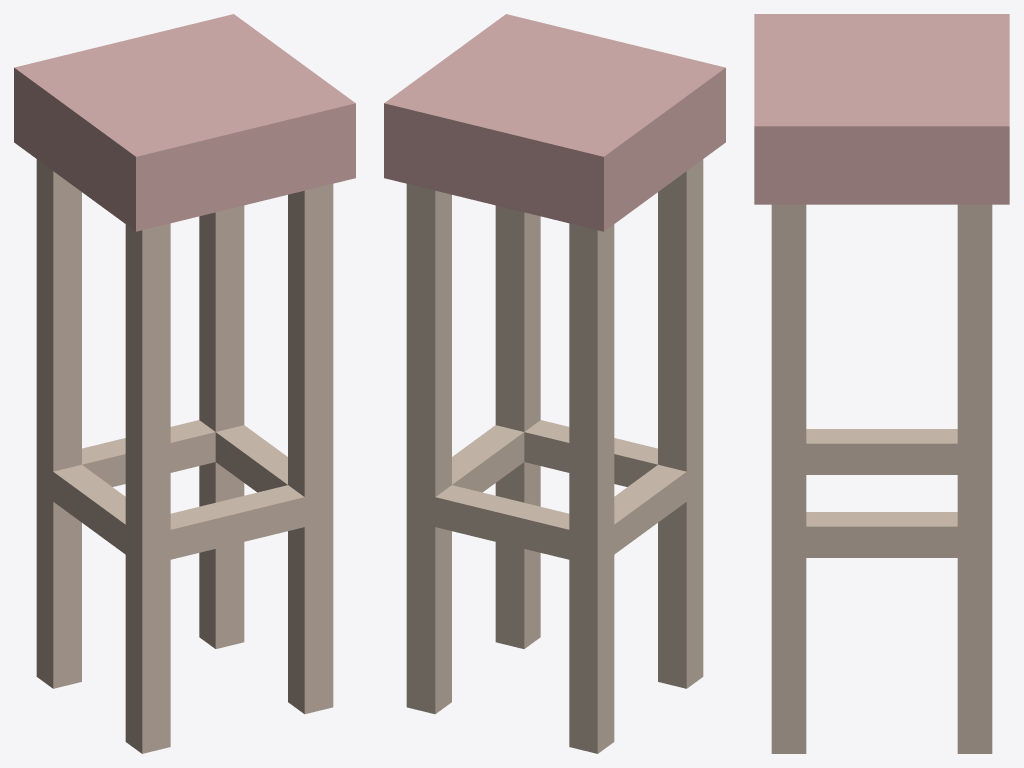
Rendered from furn_stoolBarSquare.glb.
3 views of the same model, side by side, from view 1: azimuth 30°, elevation 25°; view 2: azimuth 150°, elevation 25°; view 3: azimuth 270°, elevation 25° (orthographic). The views are drawn at different scales.
Bounding box in the file's own units: 0.307 × 0.81 × 0.2952.
